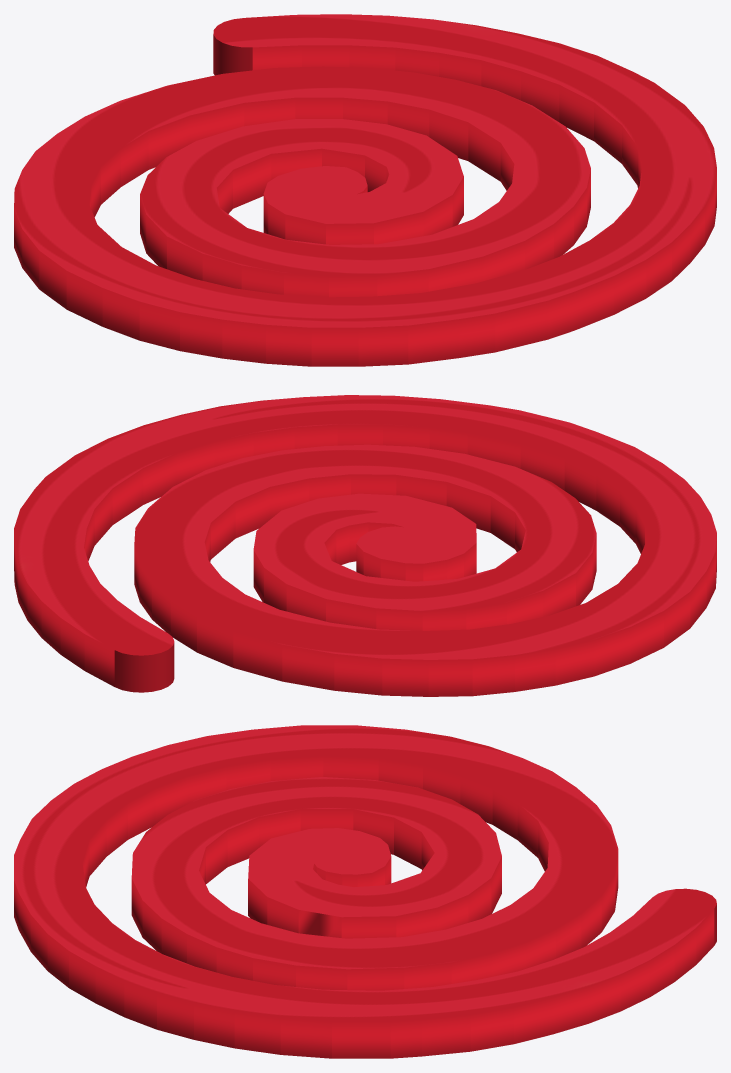
File: Ketchup_Slice.glb
3 views of the same model, one above another, from view 1: azimuth 30°, elevation 25°; view 2: azimuth 150°, elevation 25°; view 3: azimuth 270°, elevation 25° (orthographic). The views are drawn at different scales.
Parts seen in each view (by area): view 1: Ketchup_Slice; view 2: Ketchup_Slice; view 3: Ketchup_Slice.
Boxes of the visible parts, x1=… form: Ketchup_Slice: x1=14, y1=14, x2=716, y2=366; Ketchup_Slice: x1=14, y1=395, x2=716, y2=696; Ketchup_Slice: x1=14, y1=725, x2=716, y2=1058.
Bounding box in the file's own units: 17 × 1 × 17.06.
Materials: 1 (1 with a texture image).
